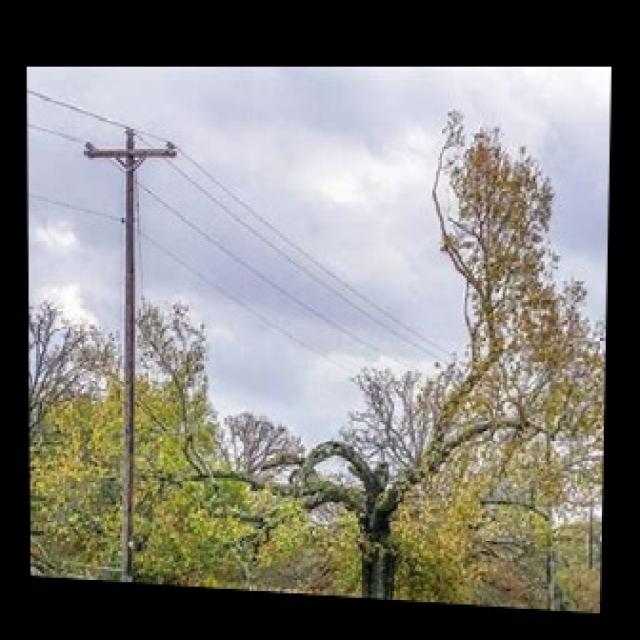utility poles: (83, 127, 191, 574)
